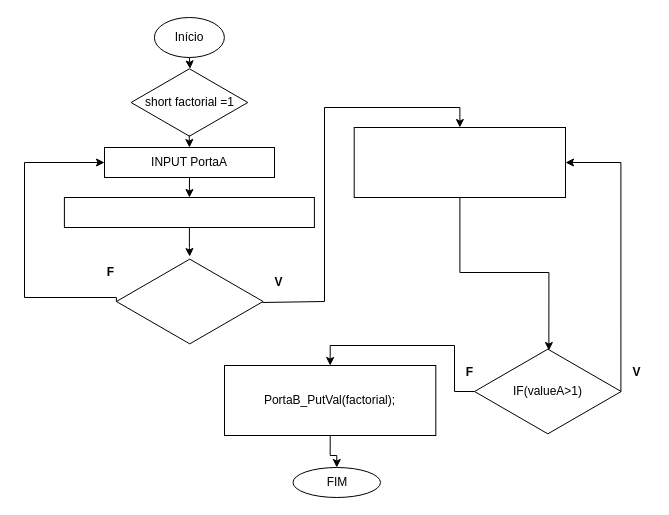
Some shapes in this 669 by 515 pixel diagram are drawn without their labels. The centre of each missing label's shape, as x and y in pixels:
fat=fat *x x=x-1: (459,162)
IF(valueA>0): (189,301)
valueA=PortaA_GetVal();: (188,212)
